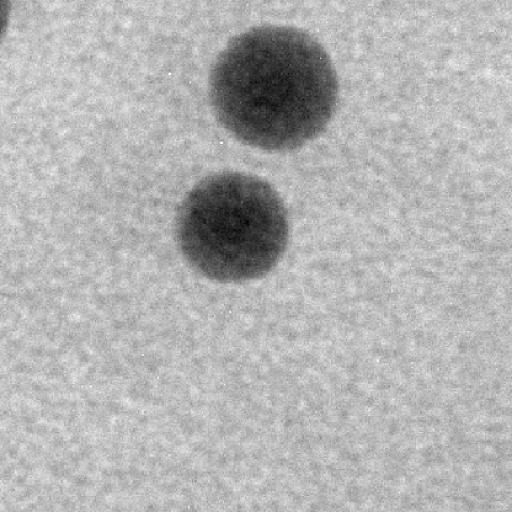Nanoparticles: (208, 22, 342, 155), (166, 168, 292, 284)
